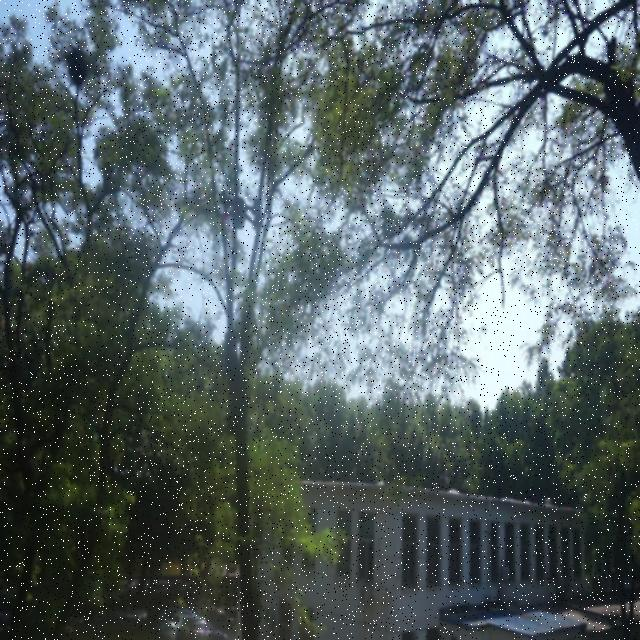UAV: (219, 187, 260, 231)
